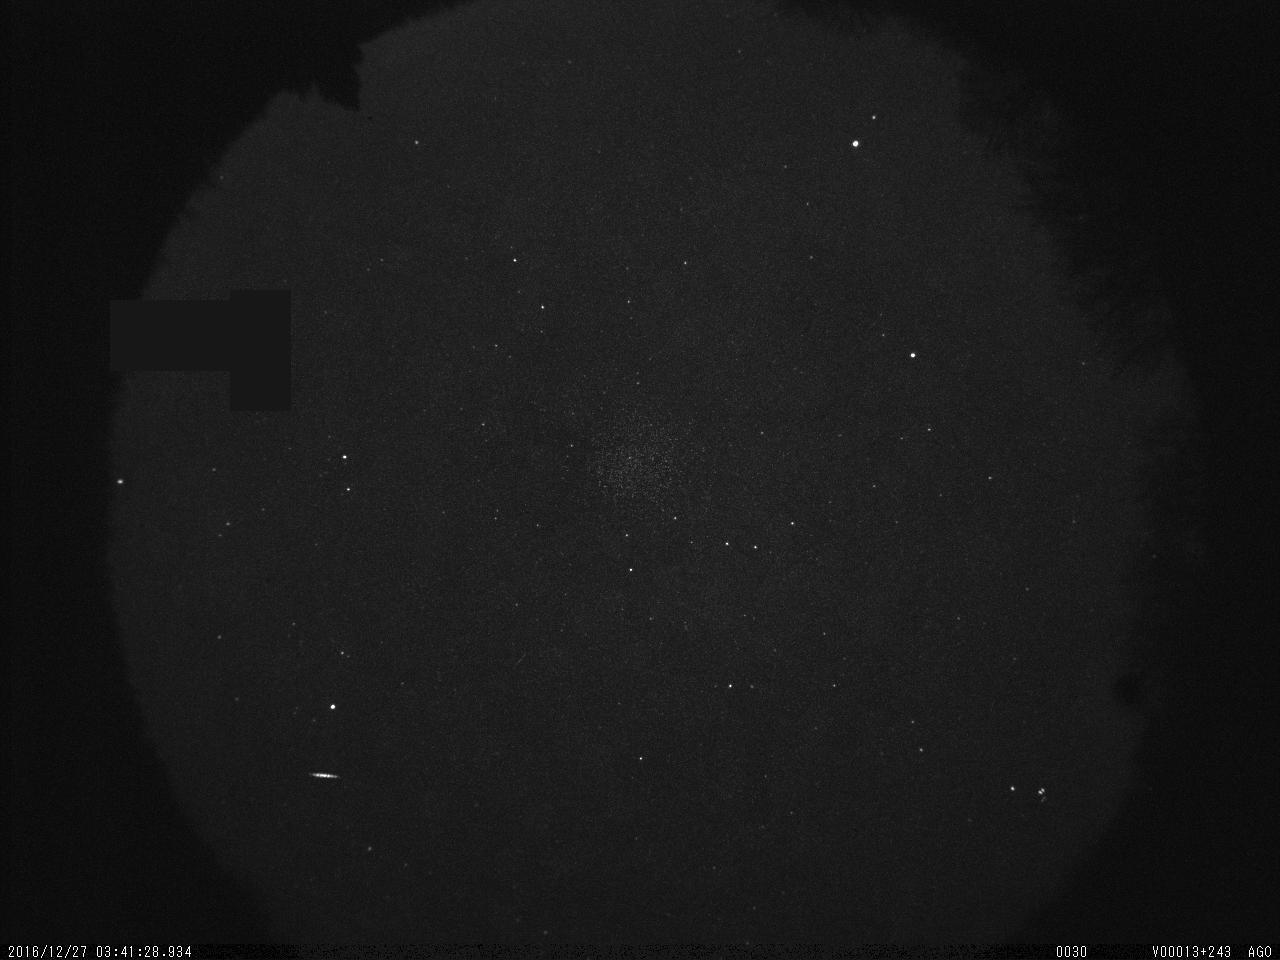meteor: (265, 743, 390, 819)
